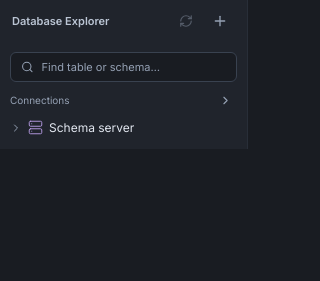
Test: opens schema actions with the schema database and refreshes only that schema
Later steps or results of the test are not shown.
Click the button "Schema server": click(112, 128) [6, 115, 218, 140]
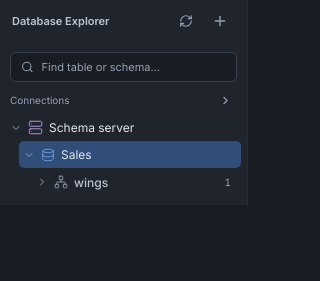
Right-click the heading "wings 1": (91, 182) [36, 174, 231, 190]
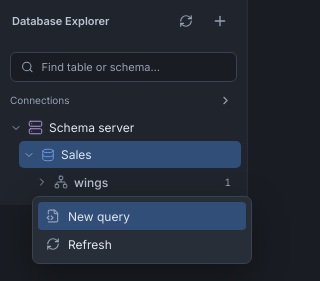
Now the menu named "Schema actions for wings" is shown, box [32, 196, 252, 264]
